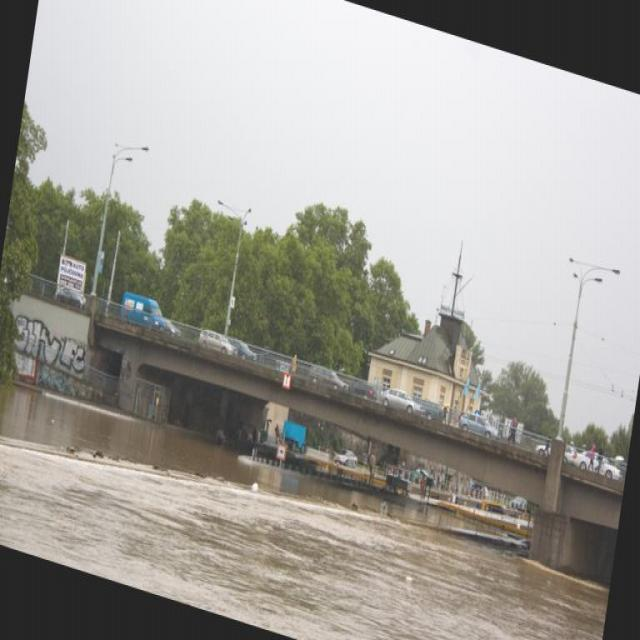flood: (0, 358, 614, 639)
